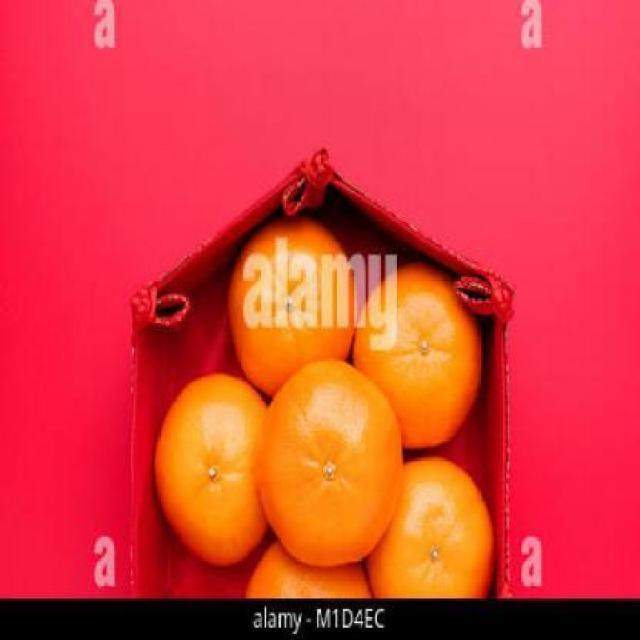Jeruk Sudah Matang: (258, 362, 402, 564), (353, 262, 484, 456), (228, 218, 358, 402), (156, 377, 272, 568), (367, 452, 495, 600), (246, 526, 374, 603)
